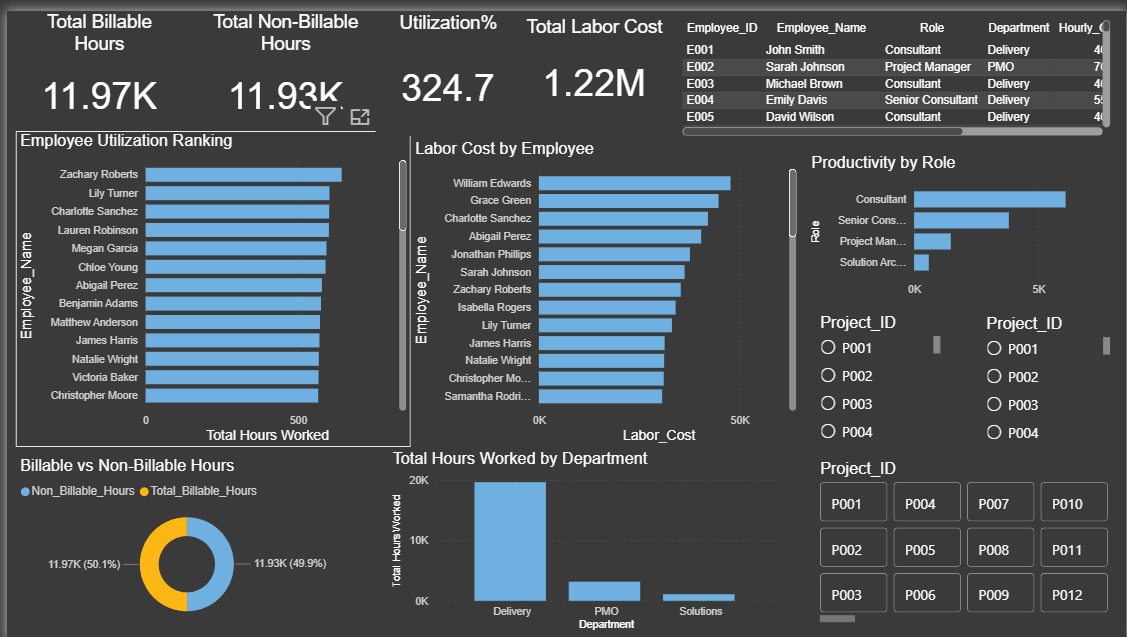

The page's visual inventory and layout, read from the dashboard file:
{"tool":"powerbi","page":{"name":"Resource Management","canvas":[1280,720],"ordinal":2},"visuals":[{"type":"cardVisual","title":"Total Billable Hours","fields":{"Data":["psod timelogs_cleaned.Total_Billable_Hours"]},"box":[10,0,191.4,121.4],"z":0},{"type":"cardVisual","title":"Total Non-Billable Hours","fields":{"Data":["psod timelogs_cleaned.Non_Billable_Hours"]},"box":[201.4,0,234.3,131.4],"z":1000},{"type":"cardVisual","title":"Total Labor Cost","fields":{"Data":["psod timelogs_cleaned.Labor_Cost"]},"box":[587.1,5.7,168.6,120],"z":3000},{"type":"clusteredBarChart","title":"Employee Utilization Ranking","fields":{"Category":["psod employees_cleaned.Employee_Name"],"Y":["psod timelogs_cleaned.Total Hours Worked"]},"box":[10,137.1,451.4,361.4],"z":4000},{"type":"donutChart","title":"Billable vs Non-Billable Hours","fields":{"Y":["psod timelogs_cleaned.Non_Billable_Hours","psod timelogs_cleaned.Total_Billable_Hours"]},"box":[10,508.6,391.4,197.1],"z":5000},{"type":"barChart","title":"Labor Cost by Employee","fields":{"Category":["psod employees_cleaned.Employee_Name"],"Y":["psod timelogs_cleaned.Labor_Cost"]},"box":[461.4,147.1,445.7,351.4],"z":6000},{"type":"clusteredColumnChart","fields":{"Category":["psod employees_cleaned.Department"],"Y":["psod timelogs_cleaned.Total Hours Worked"]},"box":[435.7,501.4,448.6,211.4],"z":6001},{"type":"barChart","title":"Productivity by Role","fields":{"Category":["psod employees_cleaned.Role"],"Y":["psod timelogs_cleaned.Total_Billable_Hours"]},"box":[914.3,162.9,362.9,171.4],"z":6002},{"type":"cardVisual","title":"Utilization%","fields":{"Data":["psod timelogs_cleaned.Ulitlization%"]},"box":[421.4,1.4,165.7,141.4],"z":6003},{"type":"tableEx","fields":{"Values":["psod employees_cleaned.Employee_ID","psod employees_cleaned.Employee_Name","psod employees_cleaned.Role","psod employees_cleaned.Department","psod employees_cleaned.Hourly_Cost","psod timelogs_cleaned.Total Hours Worked","psod timelogs_cleaned.Labor_Cost"]},"box":[765.7,5.7,500,141.4],"z":6004},{"type":"listSlicer","fields":{"Values":["psod projects_cleaned.Project_ID"]},"box":[1114.3,347.1,151.4,152.9],"z":6005},{"type":"listSlicer","fields":{"Values":["psod projects_cleaned.Project_ID"]},"box":[924.3,345.7,147.1,152.9],"z":6006},{"type":"advancedSlicerVisual","fields":{"Values":["psod projects_cleaned.Project_ID"]},"box":[924.3,512.9,341.4,192.9],"z":6007}]}

Visuals, with their boxes in screenshot pixels (x1, y1, x2, y2), scaled from the page's 1280x720 canvas onto the 1127x637 screenshot:
"Total Billable Hours" cardVisual: (left=9, top=0, right=177, bottom=107)
"Total Non-Billable Hours" cardVisual: (left=177, top=0, right=384, bottom=116)
"Total Labor Cost" cardVisual: (left=517, top=5, right=665, bottom=111)
"Employee Utilization Ranking" clusteredBarChart: (left=9, top=121, right=406, bottom=441)
"Billable vs Non-Billable Hours" donutChart: (left=9, top=450, right=353, bottom=624)
"Labor Cost by Employee" barChart: (left=406, top=130, right=799, bottom=441)
clusteredColumnChart - psod employees_cleaned.Department x psod timelogs_cleaned.Total Hours Worked: (left=384, top=444, right=779, bottom=631)
"Productivity by Role" barChart: (left=805, top=144, right=1125, bottom=296)
"Utilization%" cardVisual: (left=371, top=1, right=517, bottom=126)
tableEx - psod employees_cleaned.Employee_ID x psod employees_cleaned.Employee_Name: (left=674, top=5, right=1114, bottom=130)
listSlicer - psod projects_cleaned.Project_ID: (left=981, top=307, right=1114, bottom=442)
listSlicer - psod projects_cleaned.Project_ID: (left=814, top=306, right=943, bottom=441)
advancedSlicerVisual - psod projects_cleaned.Project_ID: (left=814, top=454, right=1114, bottom=624)
